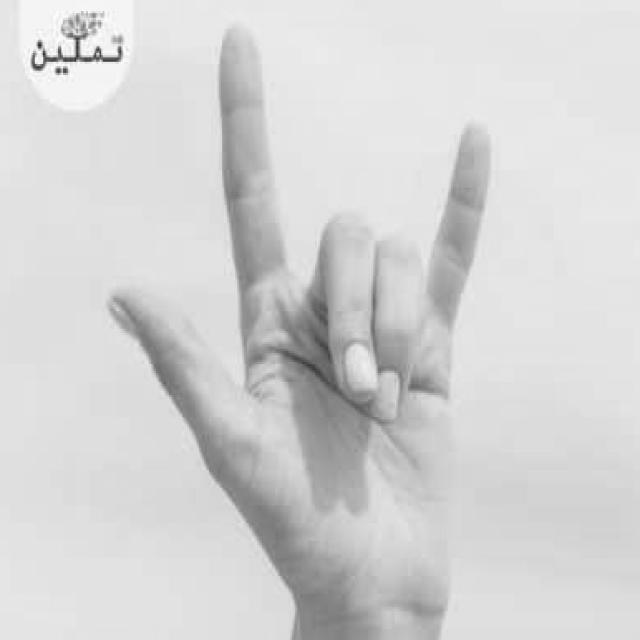i love you: (101, 13, 496, 640)
